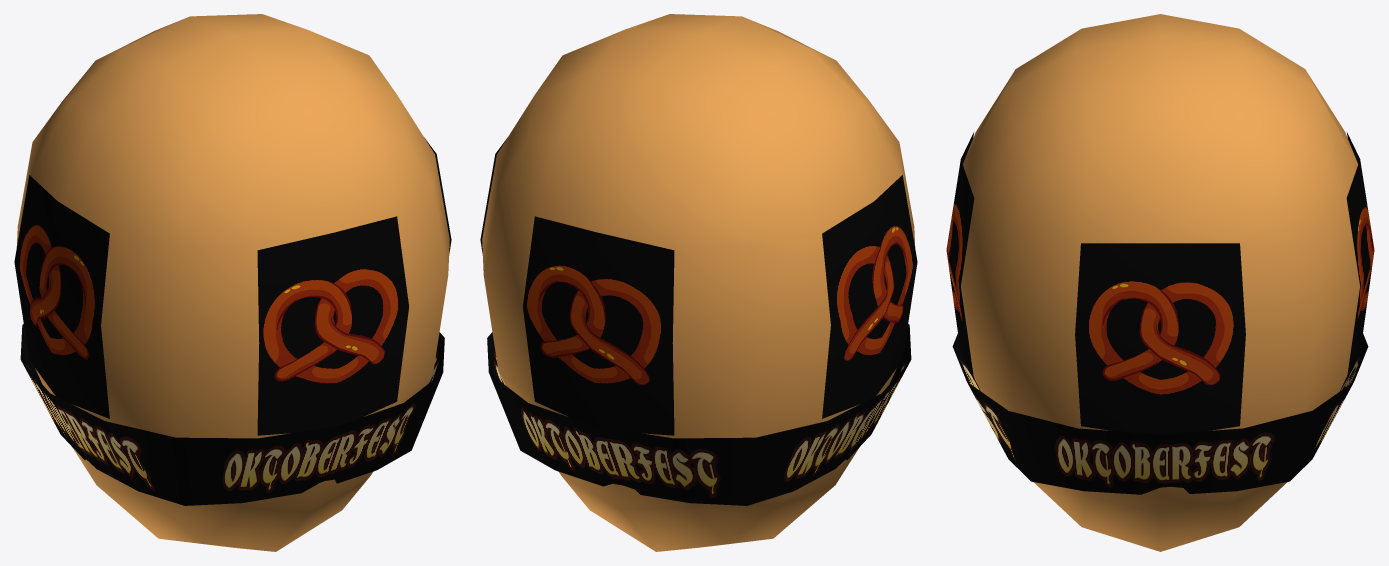
File: Balloon_Interactible_Yellow_Art.fbx
3 views of the same model, side by side, from view 1: azimuth 30°, elevation 25°; view 2: azimuth 150°, elevation 25°; view 3: azimuth 270°, elevation 25° (orthographic).
Visible parts, largest first — view 1: Oktoberfest_Balloon_Interactible_Yellow; view 2: Oktoberfest_Balloon_Interactible_Yellow; view 3: Oktoberfest_Balloon_Interactible_Yellow.
Part boxes in pixels (<box>): Oktoberfest_Balloon_Interactible_Yellow: <box>14,14,451,551</box>; Oktoberfest_Balloon_Interactible_Yellow: <box>480,14,917,551</box>; Oktoberfest_Balloon_Interactible_Yellow: <box>946,14,1374,551</box>.
Size of the model in its own units: 73.93 by 96.46 by 73.93.
Materials: 3 (3 with a texture image).
